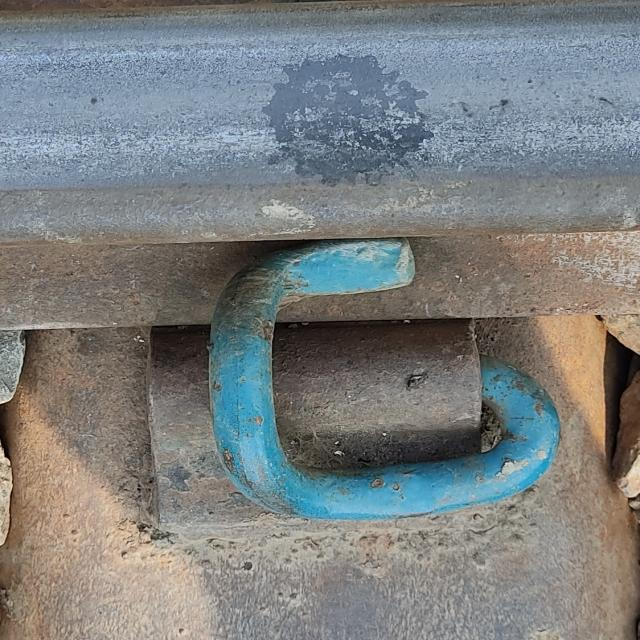track_bolt: (193, 239, 570, 529)
